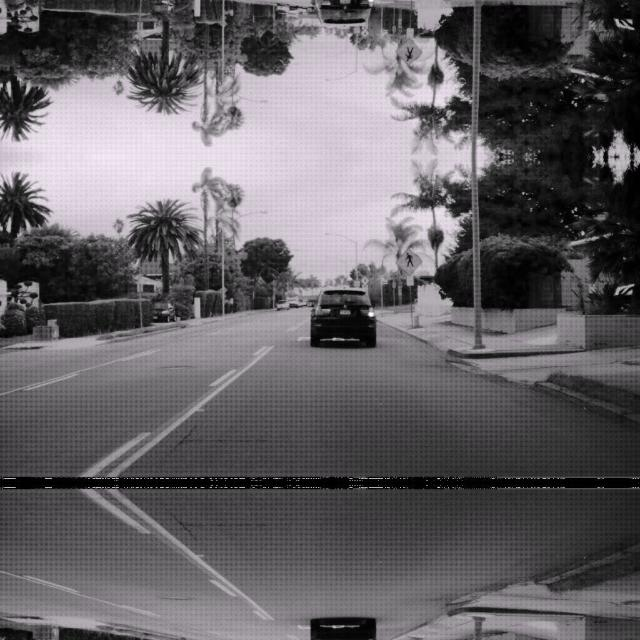pedestrianCrossing: (394, 246, 422, 274), (394, 38, 422, 66)
